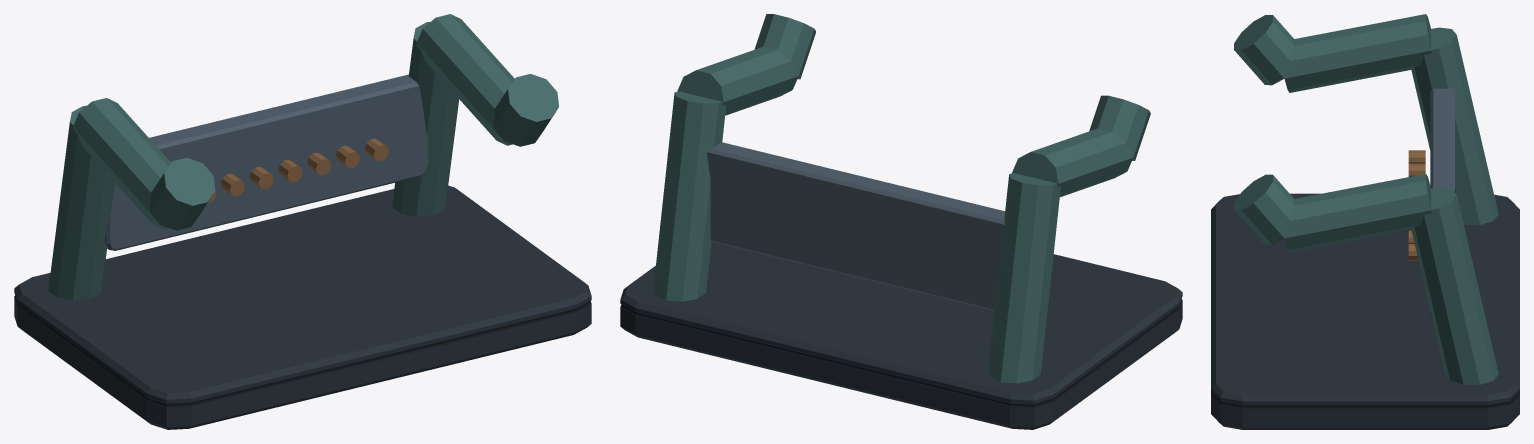
File: F-18_diagnostic_jig.glb
3 renders of one model, left to right at view 1: azimuth 30°, elevation 25°; view 2: azimuth 150°, elevation 25°; view 3: azimuth 270°, elevation 25°, orthographic. The views are drawn at different scales.
Parts seen in each view (by area): view 1: F-18_diagnostic_jig; view 2: F-18_diagnostic_jig; view 3: F-18_diagnostic_jig.
Part boxes in pixels (bbox=[...]): F-18_diagnostic_jig: bbox=[14, 14, 591, 429]; F-18_diagnostic_jig: bbox=[620, 14, 1182, 429]; F-18_diagnostic_jig: bbox=[1211, 14, 1519, 429].
Bounding box in the file's own units: 0.63 × 0.3316 × 0.4.
